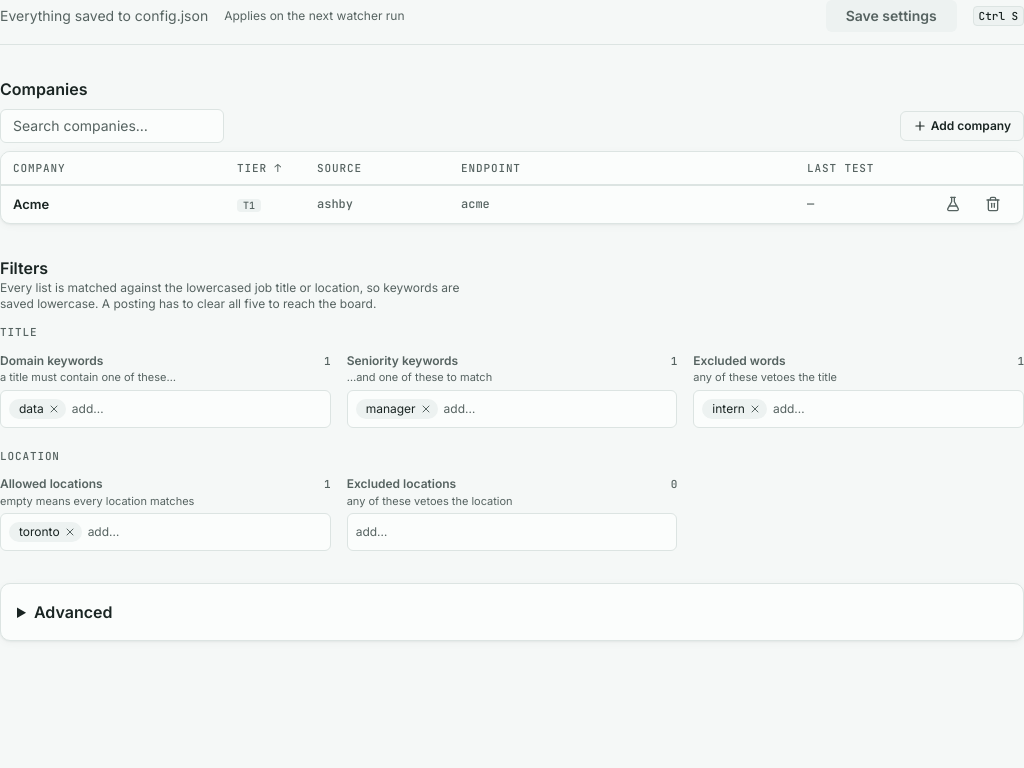
Test: SettingsPage › removes a company only after the confirm dialog is accepted
This screenshot has width=1024, height=768.
Check: the button "Acme" is shown, box [13,194,49,214]
Click the button named "Delete Acme": (993, 204) [975,186,1011,222]
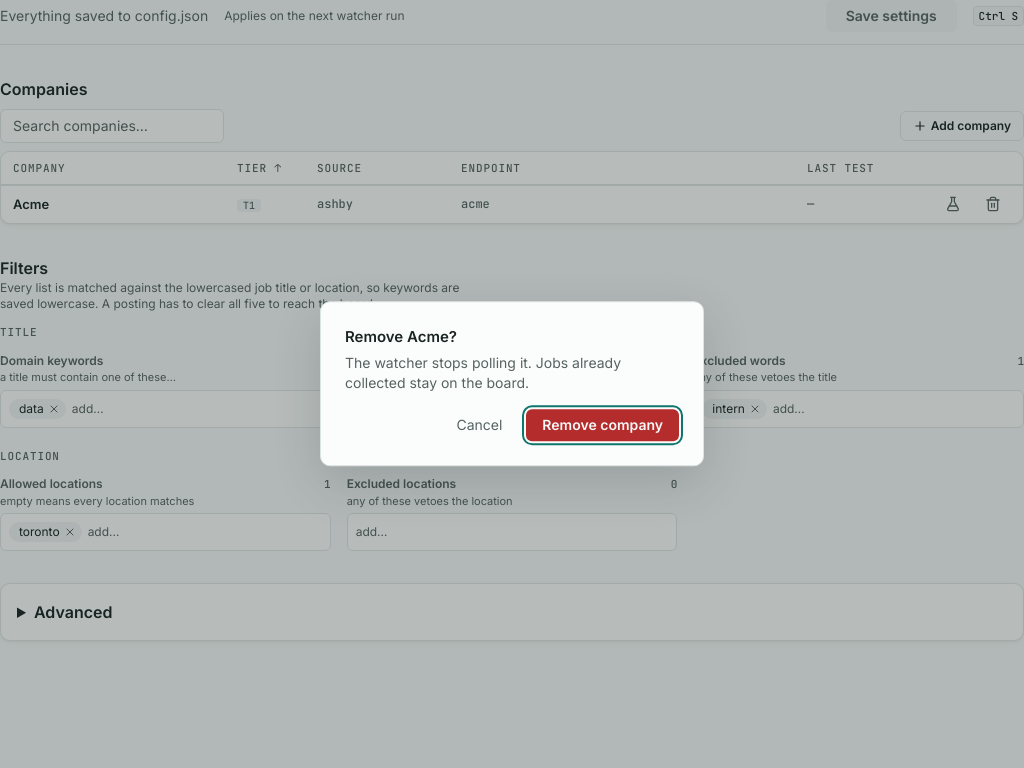
Check: the button "Acme" is shown, box [13,194,49,214]
Check: the heading "Remove Acme?" is shown, box [345,327,457,346]
Click the button "Remove company": (603, 426) [526,410,679,442]
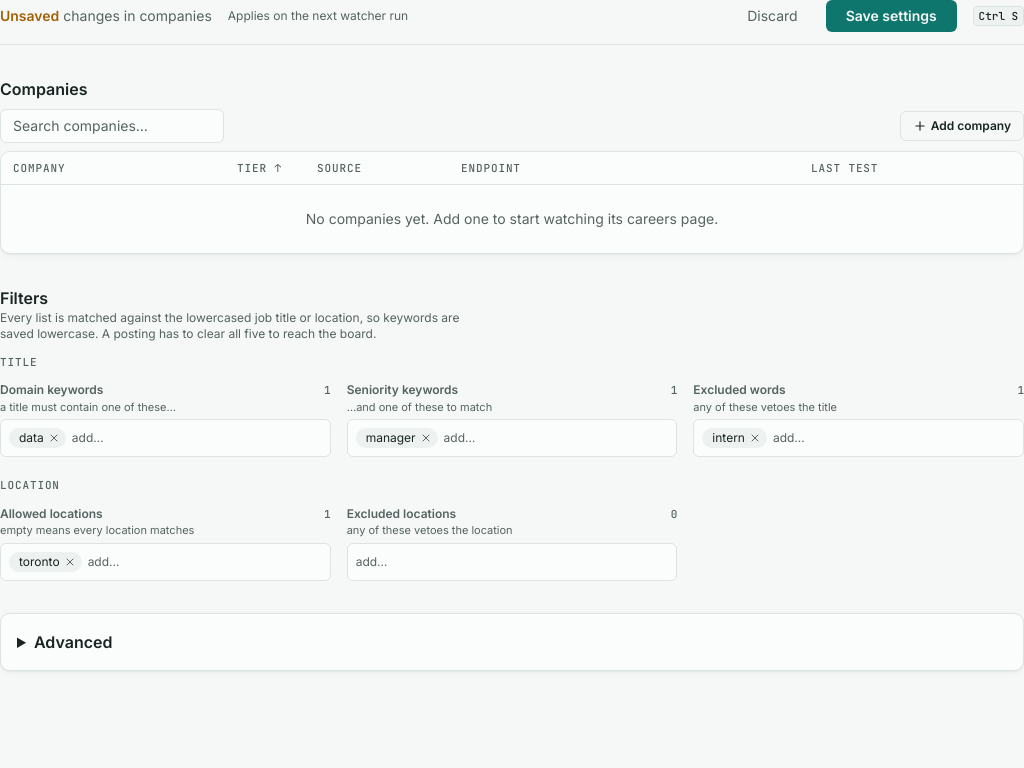
Check: the button "Acme" is gone
